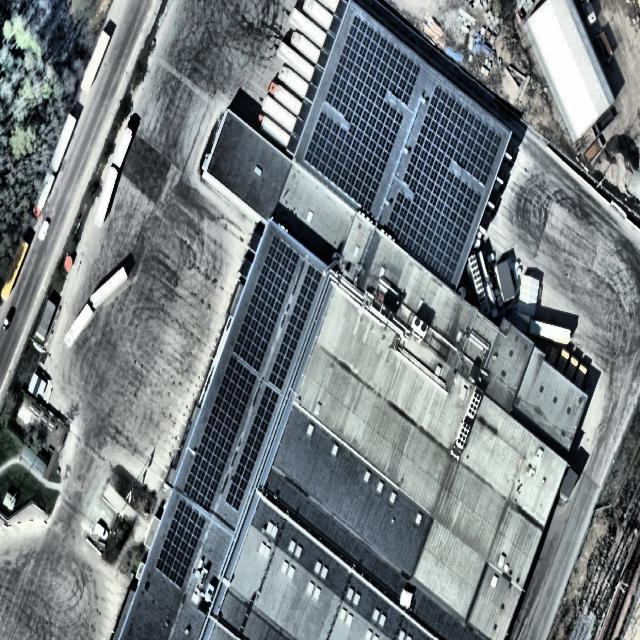roof_pv: (153, 500, 205, 588), (207, 356, 258, 442), (252, 226, 300, 316), (186, 428, 232, 511), (232, 296, 278, 376), (405, 161, 456, 232), (454, 110, 502, 183), (222, 432, 258, 518), (349, 100, 400, 158), (341, 147, 383, 215), (306, 117, 351, 180), (414, 227, 460, 281), (336, 15, 378, 74), (384, 41, 422, 106), (443, 184, 482, 243), (428, 83, 461, 150), (326, 66, 365, 122), (250, 380, 280, 452), (387, 193, 422, 250), (364, 34, 389, 110), (416, 117, 451, 171), (299, 259, 325, 325), (266, 338, 296, 395), (284, 301, 308, 359)
